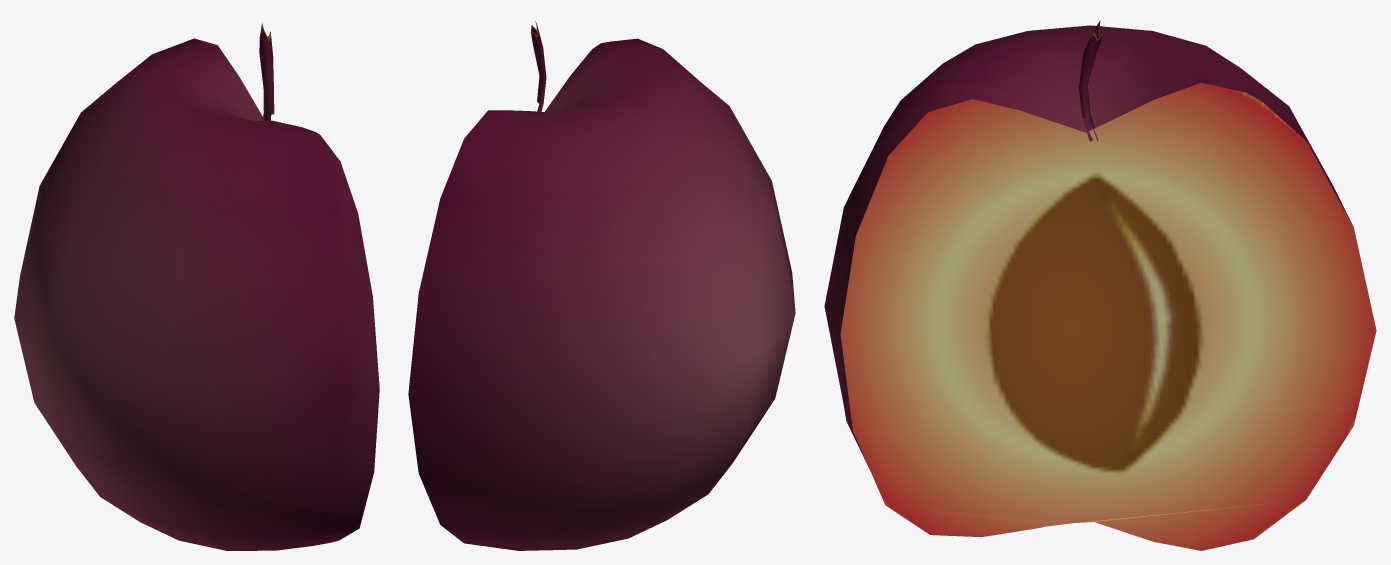
File: plumS.FBX
The picture shows the model from 3 angles, left to right: view 1: azimuth 30°, elevation 25°; view 2: azimuth 150°, elevation 25°; view 3: azimuth 270°, elevation 25°; orthographic projection. The views are drawn at different scales.
Visible parts, largest first — view 1: Plum001; view 2: Plum001; view 3: Plum001.
Part boxes in pixels (box(x1,y1,x2,y2)): Plum001: box(14, 23, 379, 550); Plum001: box(408, 21, 795, 550); Plum001: box(824, 20, 1376, 550).
Size of the model in its own units: 2.31 by 4.71 by 4.37.
